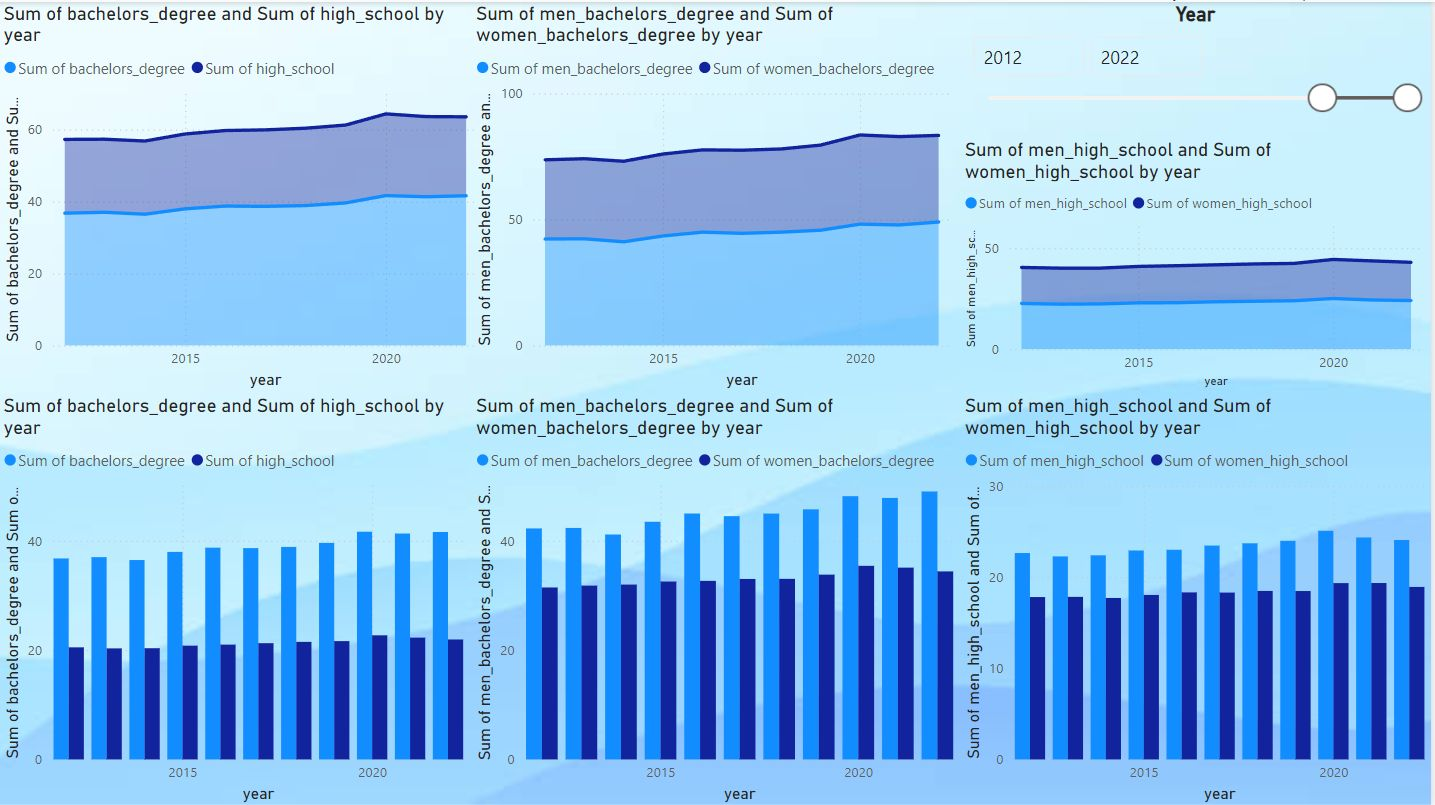

This screenshot's page, from the dashboard's own definition file:
{"tool":"powerbi","page":{"name":"Page 3","canvas":[1280,720],"ordinal":2},"visuals":[{"type":"clusteredColumnChart","fields":{"Category":["college_wage_premium.year"],"Y":["Sum(college_wage_premium.bachelors_degree)","Sum(college_wage_premium.high_school)"]},"box":[0,350.5,421.7,369.7],"z":0},{"type":"clusteredColumnChart","fields":{"Category":["college_wage_premium.year"],"Y":["Sum(college_wage_premium.men_bachelors_degree)","Sum(college_wage_premium.women_bachelors_degree)"]},"box":[421.7,350.5,436.4,369.7],"z":1000},{"type":"clusteredColumnChart","fields":{"Category":["college_wage_premium.year"],"Y":["Sum(college_wage_premium.men_high_school)","Sum(college_wage_premium.women_high_school)"]},"box":[858.2,350.5,421.7,369.7],"z":2000},{"type":"stackedAreaChart","fields":{"Category":["college_wage_premium.year"],"Y":["Sum(college_wage_premium.bachelors_degree)","Sum(college_wage_premium.high_school)"]},"box":[0,0,436.4,350.5],"z":3000},{"type":"stackedAreaChart","fields":{"Category":["college_wage_premium.year"],"Y":["Sum(college_wage_premium.men_bachelors_degree)","Sum(college_wage_premium.women_bachelors_degree)"]},"box":[421.7,0,436.4,350.5],"z":4000},{"type":"stackedAreaChart","fields":{"Category":["college_wage_premium.year"],"Y":["Sum(college_wage_premium.men_high_school)","Sum(college_wage_premium.women_high_school)"]},"box":[858.2,122.1,421.7,228.4],"z":5000},{"type":"slicer","title":"Year","fields":{"Values":["college_wage_premium.year"]},"box":[858.2,0,421.7,122.1],"z":6000}]}

Visuals, with their boxes in screenshot pixels (x1, y1, x2, y2), scaled from the page's 1280x720 canvas onto the 1435x805 screenshot:
clusteredColumnChart - college_wage_premium.year x Sum(college_wage_premium.bachelors_degree): Rect(0, 392, 473, 804)
clusteredColumnChart - college_wage_premium.year x Sum(college_wage_premium.men_bachelors_degree): Rect(473, 392, 962, 804)
clusteredColumnChart - college_wage_premium.year x Sum(college_wage_premium.men_high_school): Rect(962, 392, 1434, 804)
stackedAreaChart - college_wage_premium.year x Sum(college_wage_premium.bachelors_degree): Rect(0, 0, 489, 392)
stackedAreaChart - college_wage_premium.year x Sum(college_wage_premium.men_bachelors_degree): Rect(473, 0, 962, 392)
stackedAreaChart - college_wage_premium.year x Sum(college_wage_premium.men_high_school): Rect(962, 137, 1434, 392)
"Year" slicer: Rect(962, 0, 1434, 137)
